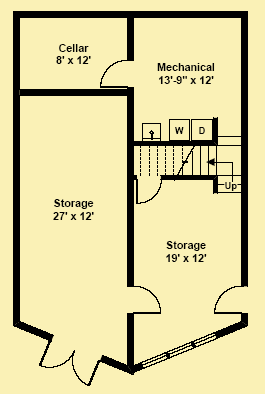door: (39, 337, 101, 388), (126, 284, 162, 315), (97, 58, 133, 87), (214, 284, 246, 316), (135, 178, 165, 205)
stairs: (132, 140, 244, 181)
